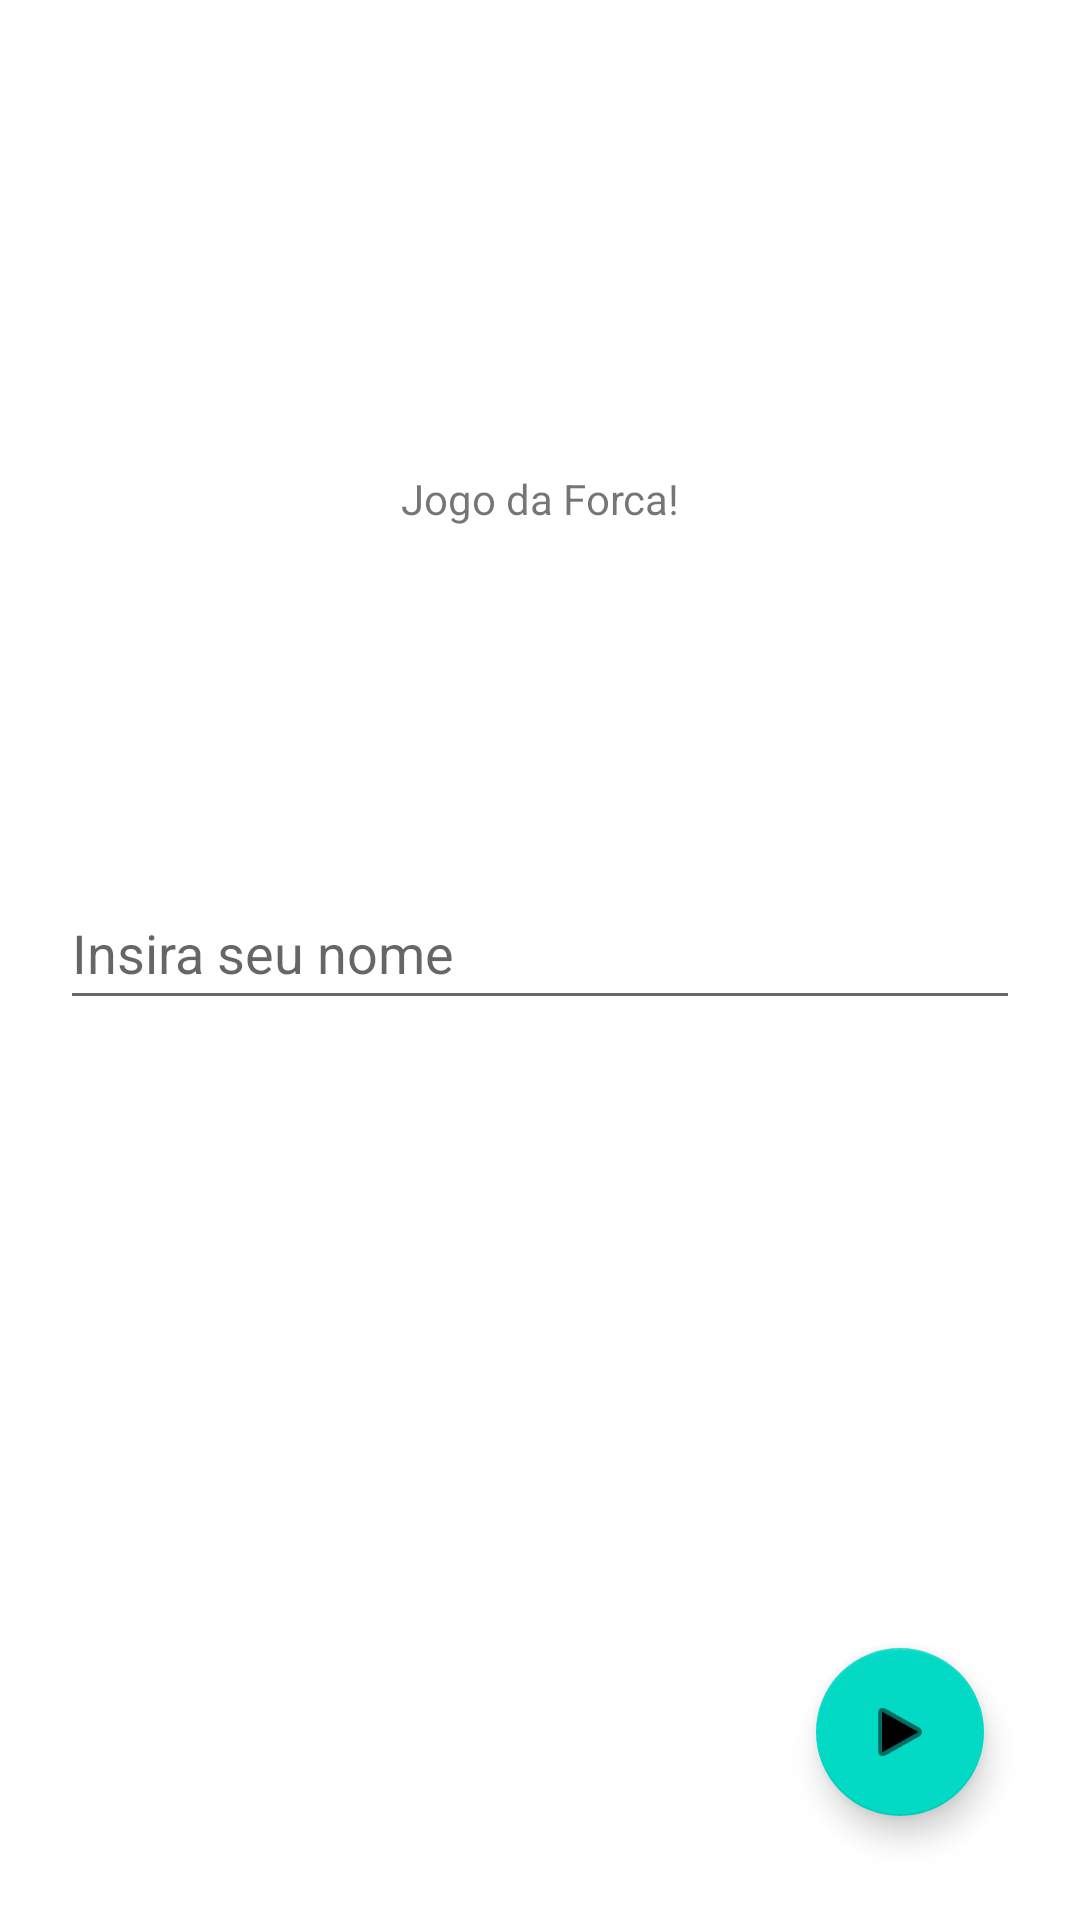

Where icons sit on this 1080x1920 app screen, as (x1, y1, x2, y2):
play: (816, 1648, 984, 1816)
